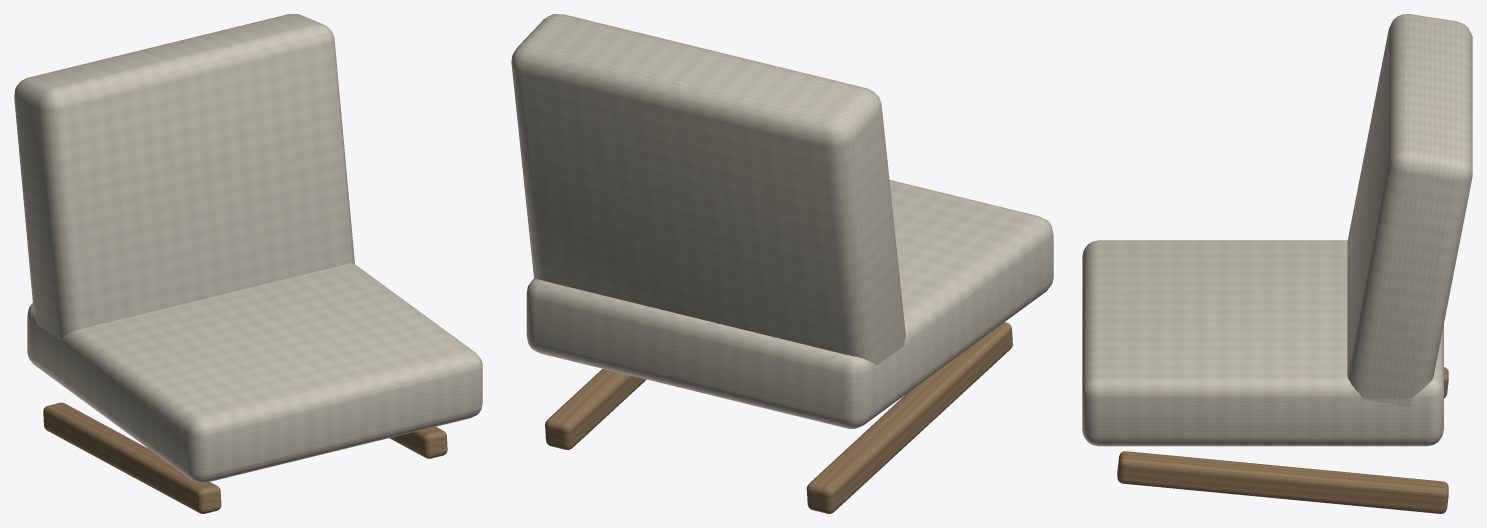
Rendered from lounge-chair.glb.
3 views of the same model, side by side, from view 1: azimuth 30°, elevation 25°; view 2: azimuth 150°, elevation 25°; view 3: azimuth 270°, elevation 25° (orthographic). The views are drawn at different scales.
Visible parts, largest first — view 1: CANONICAL back, CANONICAL seat, CANONICAL oak rail, CANONICAL oak rail.001; view 2: CANONICAL back, CANONICAL seat, CANONICAL oak rail, CANONICAL oak rail.001; view 3: CANONICAL seat, CANONICAL back, CANONICAL oak rail.001.
Boxes of the visible parts, x1,y1,x2,y2 form: CANONICAL back: (14, 14, 354, 340); CANONICAL seat: (27, 263, 482, 483); CANONICAL oak rail: (43, 402, 221, 513); CANONICAL oak rail.001: (389, 427, 447, 458); CANONICAL back: (511, 14, 905, 369); CANONICAL seat: (526, 180, 1053, 428); CANONICAL oak rail: (806, 322, 1012, 513); CANONICAL oak rail.001: (545, 369, 646, 449); CANONICAL seat: (1082, 240, 1443, 446); CANONICAL back: (1347, 14, 1472, 406); CANONICAL oak rail.001: (1117, 451, 1448, 513).
Bounding box in the file's own units: 0.7 × 0.8144 × 0.7776.
Materials: 2 (2 with a texture image).
